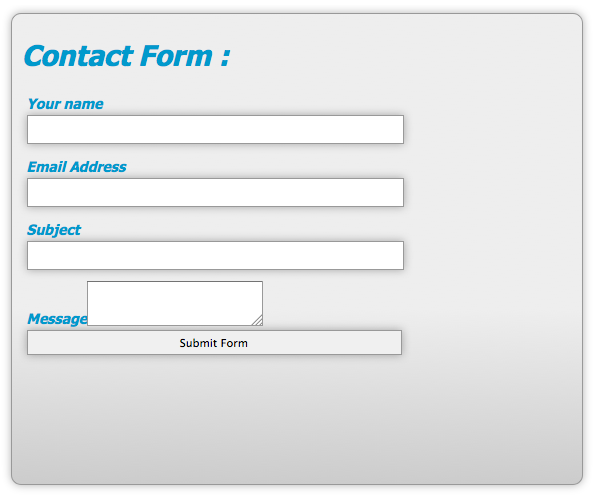button: (24, 329, 406, 358)
field: (25, 239, 405, 272), (25, 114, 406, 146), (26, 177, 404, 209), (85, 280, 264, 326)
